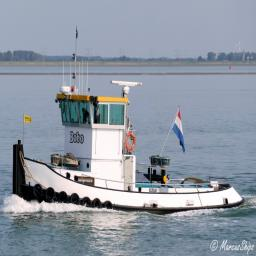tugboat: (13, 25, 247, 224)
